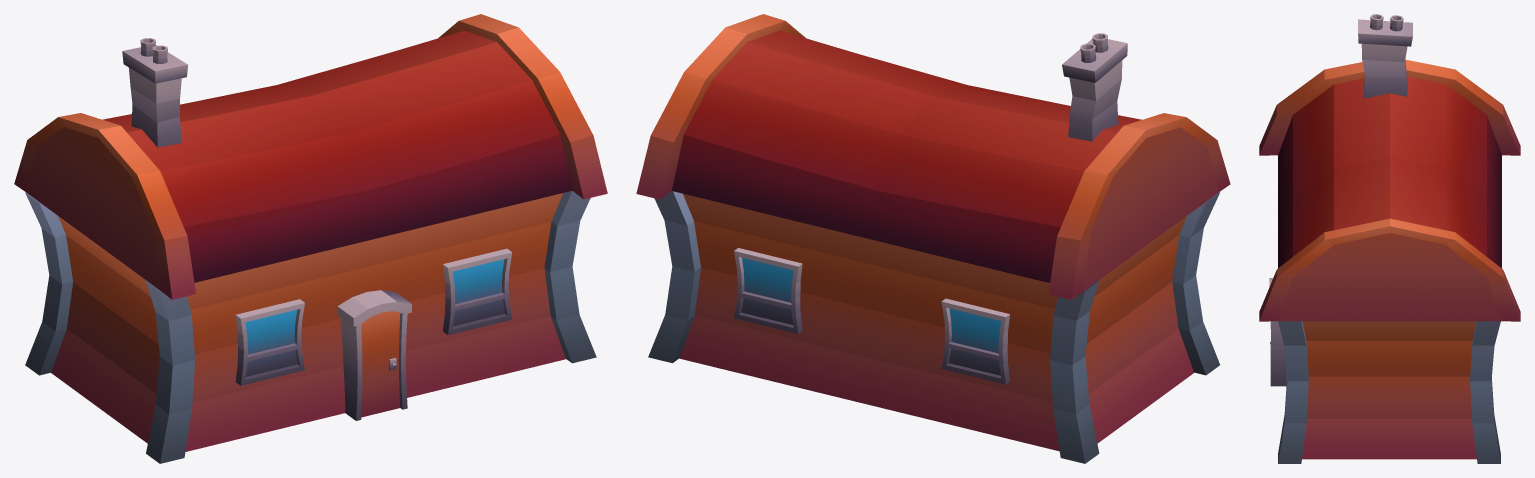
The model's file is House_4.fbx.
3 renders of one model, left to right at view 1: azimuth 30°, elevation 25°; view 2: azimuth 150°, elevation 25°; view 3: azimuth 270°, elevation 25°, orthographic. The views are drawn at different scales.
Visible parts, largest first — view 1: Commercial House; view 2: Commercial House; view 3: Commercial House.
Part boxes in pixels (<box>): Commercial House: <box>14,14,607,463</box>; Commercial House: <box>636,14,1230,463</box>; Commercial House: <box>1259,14,1520,463</box>.
Size of the model in its own units: 856 by 671 by 537.
